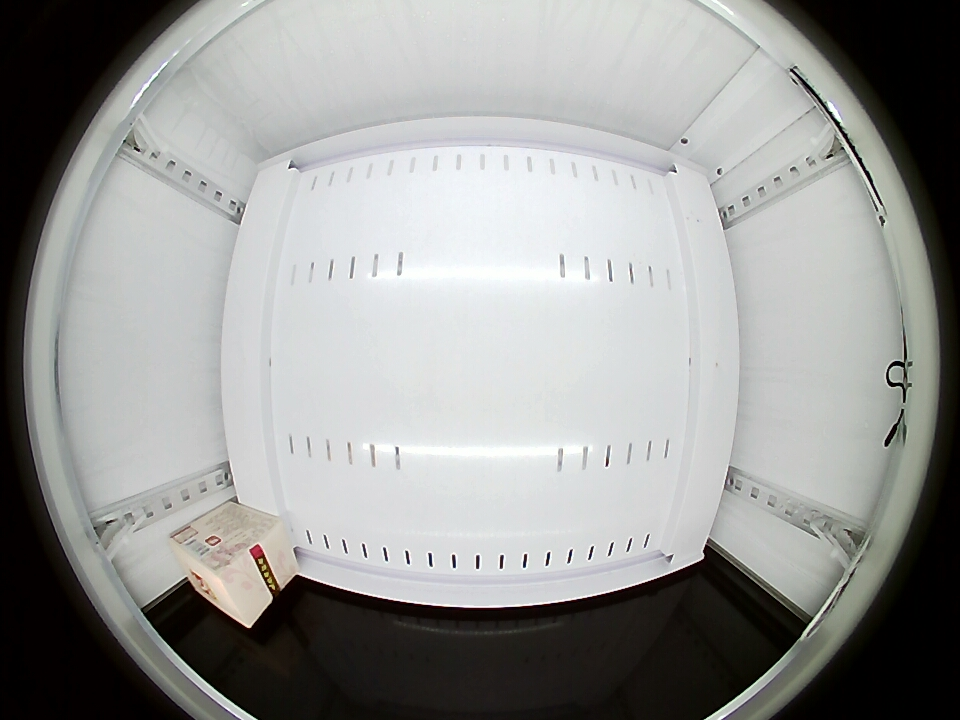rousongbing: (171, 520, 276, 628)
